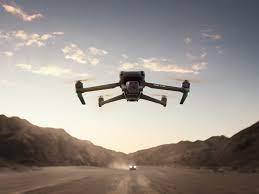drone: (73, 70, 191, 107)
